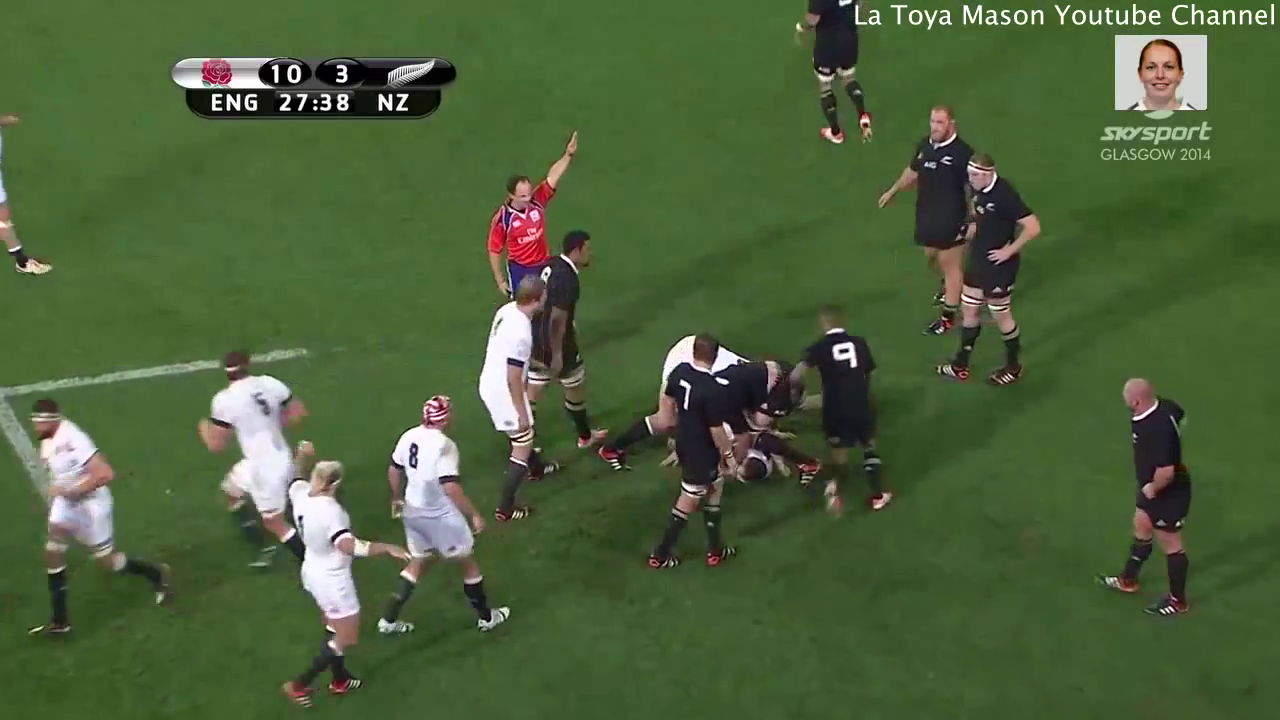player: (15, 393, 179, 641), (362, 385, 525, 633), (258, 445, 374, 720), (1098, 361, 1203, 630), (783, 300, 896, 520), (651, 323, 750, 573), (952, 151, 1048, 396), (884, 85, 970, 351), (473, 271, 557, 522), (198, 350, 295, 563), (537, 218, 611, 445), (474, 127, 579, 273), (787, 1, 878, 149)
ruck: (615, 311, 850, 498)
